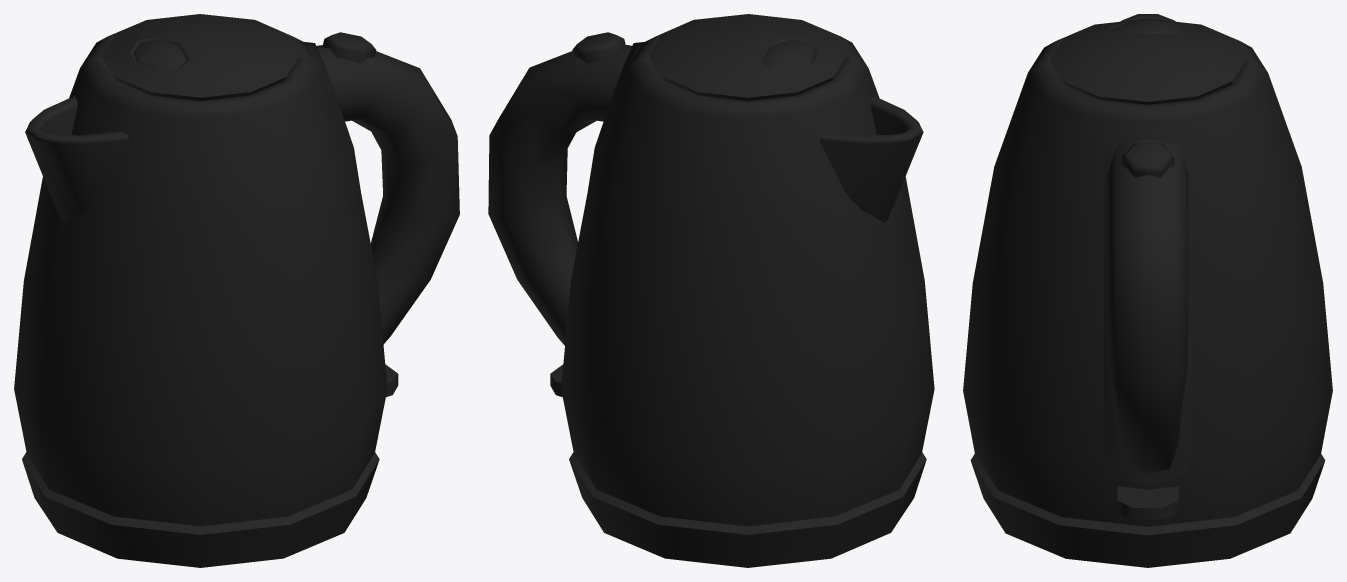
The model's file is electronics_022.fbx.
The picture shows the model from 3 angles, left to right: view 1: azimuth 30°, elevation 25°; view 2: azimuth 150°, elevation 25°; view 3: azimuth 270°, elevation 25°; orthographic projection.
Parts seen in each view (by area): view 1: electronics_022; view 2: electronics_022; view 3: electronics_022.
Part boxes in pixels (left/top/right/bottom): electronics_022: left=14, top=14, right=459, bottom=567; electronics_022: left=488, top=14, right=934, bottom=567; electronics_022: left=963, top=14, right=1332, bottom=567.
Bounding box in the file's own units: 39.3 × 30.11 × 41.17.
